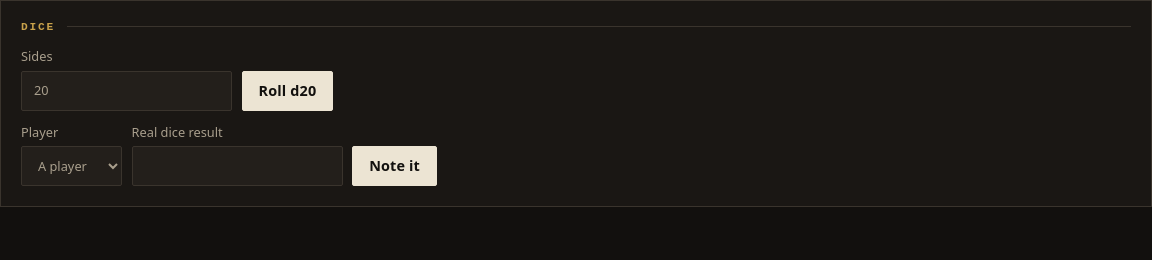
Test: DiceBar › refuses 1 sides
Replace the text in the field with test id "dice-sides" with "1" at (126, 91), box x1=21 y1=71 x2=232 y2=111
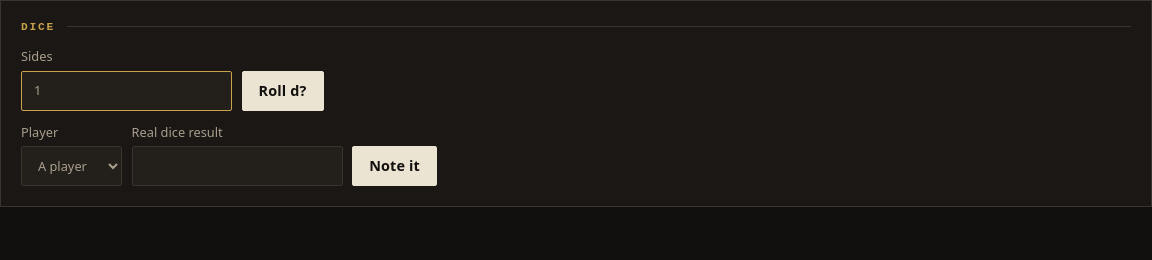
Click the button with test id "dice-roll" at (283, 91), box x1=242 y1=71 x2=324 y2=111
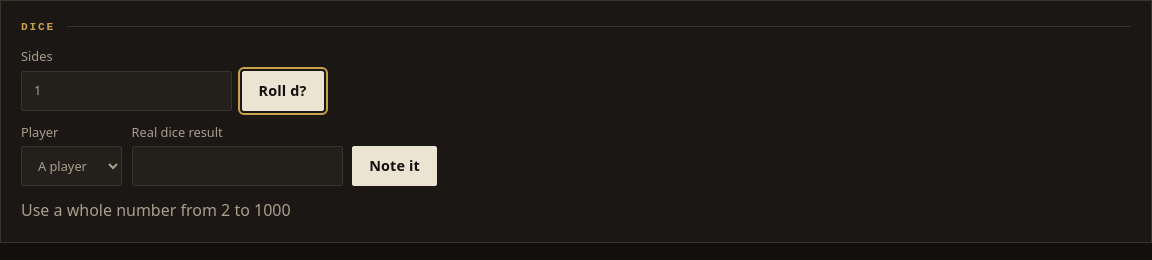
expect the text with test id "dice-error" shows "whole number": met, box x1=21 y1=199 x2=291 y2=221
